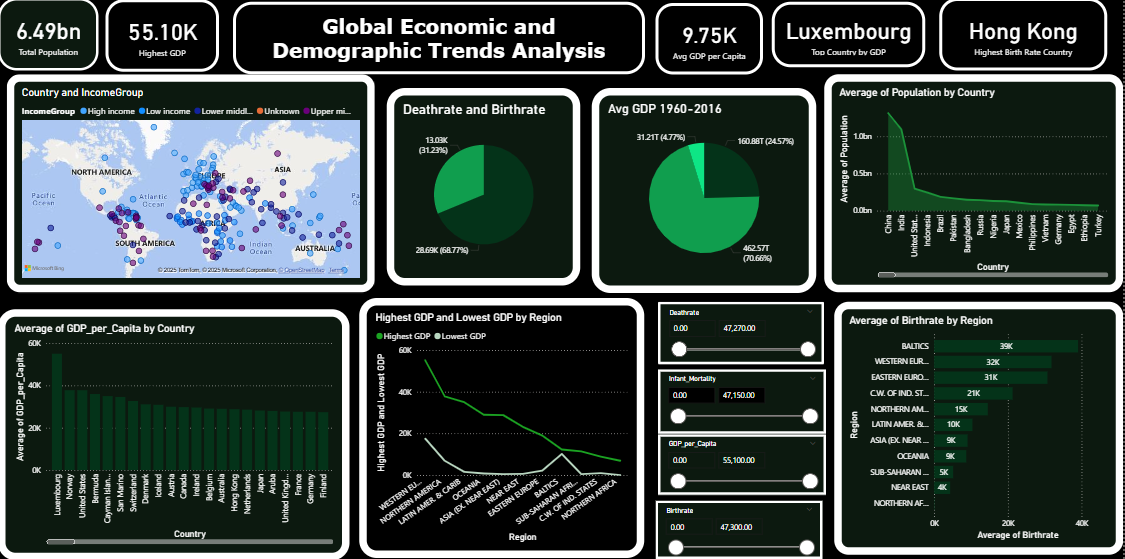

The dashboard page shown, as its layout file describes it:
{"tool":"powerbi","page":{"name":"Page 1","canvas":[1800,900],"ordinal":0},"visuals":[{"type":"lineStackedColumnComboChart","fields":{"Y":["Avg(countries countries_world.GDP_per_Capita)"],"Category":["countries countries_world.Country"]},"box":[0,498.4,562.3,401.6],"z":0},{"type":"card","fields":{"Values":["GDP by Country_1960-1980.Total Population"]},"box":[0,0,160.7,116.4],"z":1000},{"type":"card","fields":{"Values":["GDP by Country_1960-1980.Top Country by GDP"]},"box":[1237.7,6.6,245.9,104.9],"z":2000},{"type":"lineChart","fields":{"Category":["countries countries_world.Region"],"Y":["GDP by Country_1960-1980.Highest GDP","GDP by Country_1960-1980.Lowest GDP"]},"box":[578.7,480.3,455.7,416.4],"z":3000},{"type":"clusteredBarChart","fields":{"Category":["countries countries_world.Region"],"Y":["Avg(countries countries_world.Birthrate)"]},"box":[1337.7,485.2,462.3,404.9],"z":4000},{"type":"slicer","fields":{"Values":["countries countries_world.Birthrate"]},"box":[1052.5,803.3,267.2,93.4],"z":5000},{"type":"slicer","fields":{"Values":["countries countries_world.Deathrate"]},"box":[1055.7,485.2,265.6,100],"z":6000},{"type":"slicer","fields":{"Values":["countries countries_world.GDP_per_Capita"]},"box":[1055.7,698.4,268.9,96.7],"z":7000},{"type":"slicer","fields":{"Values":["countries countries_world.Infant_Mortality"]},"box":[1055.7,593.4,268.9,103.3],"z":8000},{"type":"card","fields":{"Values":["GDP by Country_1960-1980.Highest GDP"]},"box":[172.1,1.6,182,116.4],"z":9000},{"type":"card","fields":{"Values":["GDP by Country_1960-1980.Avg GDP per Capita"]},"box":[1052.5,8.2,172.1,106.6],"z":10000},{"type":"pieChart","title":"Avg GDP 1960-2016","fields":{"Y":["GDP by Country_1960-1980.Avg GDP 1981-1999","GDP by Country_1960-1980.Avg GDP 2000-2016","GDP by Country_1960-1980.Avg GDP 1960-1980"]},"box":[949.2,144.3,359,327.9],"z":11000},{"type":"lineChart","fields":{"Category":["countries countries_world.Country"],"Y":["Avg(countries countries_world.Population)"]},"box":[1321.3,123,478.7,349.2],"z":12000},{"type":"pieChart","title":"Deathrate and Birthrate","fields":{"Y":["Avg(countries countries_world.Deathrate)","Avg(countries countries_world.Birthrate)"]},"box":[623,144.3,309.8,316.4],"z":13000},{"type":"textbox","box":[375.4,6.6,659,116.4],"z":14000},{"type":"map","fields":{"Series":["MetaData Country.IncomeGroup"],"Category":["MetaData Country.Country"]},"box":[14.8,123,588.5,349.2],"z":15000},{"type":"card","fields":{"Values":["GDP by Country_1960-1980.Highest Birth Rate Country"]},"box":[1506.6,0,268.9,116.4],"z":16000}]}

Visuals, with their boxes in screenshot pixels (x1, y1, x2, y2), scaled from the page's 1800x900 canvas onto the 1125x559 screenshot:
lineStackedColumnComboChart - Avg(countries countries_world.GDP_per_Capita) x countries countries_world.Country: (x1=0, y1=310, x2=351, y2=558)
card - GDP by Country_1960-1980.Total Population: (x1=0, y1=0, x2=100, y2=72)
card - GDP by Country_1960-1980.Top Country by GDP: (x1=774, y1=4, x2=927, y2=69)
lineChart - countries countries_world.Region x GDP by Country_1960-1980.Highest GDP: (x1=362, y1=298, x2=646, y2=557)
clusteredBarChart - countries countries_world.Region x Avg(countries countries_world.Birthrate): (x1=836, y1=301, x2=1124, y2=553)
slicer - countries countries_world.Birthrate: (x1=658, y1=499, x2=825, y2=557)
slicer - countries countries_world.Deathrate: (x1=660, y1=301, x2=826, y2=363)
slicer - countries countries_world.GDP_per_Capita: (x1=660, y1=434, x2=828, y2=494)
slicer - countries countries_world.Infant_Mortality: (x1=660, y1=369, x2=828, y2=433)
card - GDP by Country_1960-1980.Highest GDP: (x1=108, y1=1, x2=221, y2=73)
card - GDP by Country_1960-1980.Avg GDP per Capita: (x1=658, y1=5, x2=765, y2=71)
"Avg GDP 1960-2016" pieChart: (x1=593, y1=90, x2=818, y2=293)
lineChart - countries countries_world.Country x Avg(countries countries_world.Population): (x1=826, y1=76, x2=1124, y2=293)
"Deathrate and Birthrate" pieChart: (x1=389, y1=90, x2=583, y2=286)
textbox: (x1=235, y1=4, x2=646, y2=76)
map - MetaData Country.IncomeGroup x MetaData Country.Country: (x1=9, y1=76, x2=377, y2=293)
card - GDP by Country_1960-1980.Highest Birth Rate Country: (x1=942, y1=0, x2=1110, y2=72)
